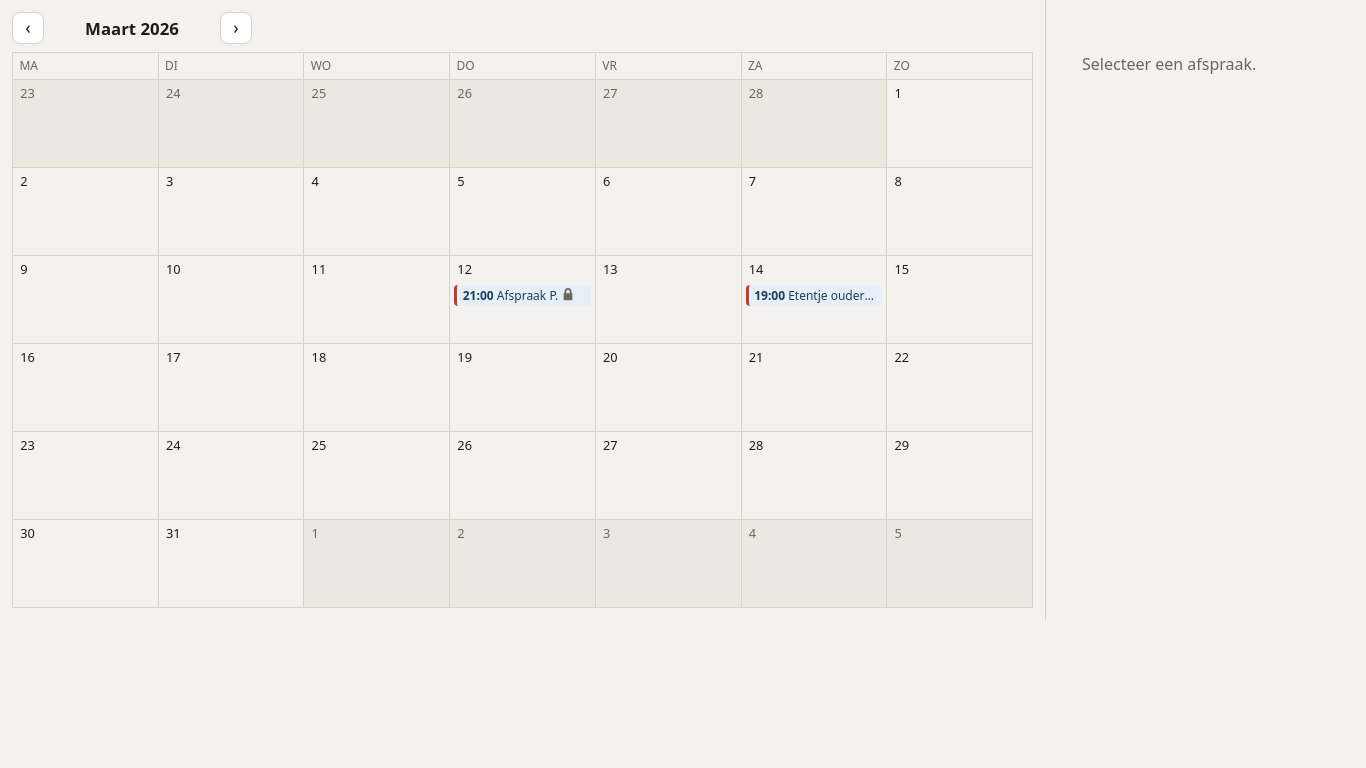
it: CalendarAppView › CalendarAppView_givenPreviousMonthClicked_expectEventsOfThatMonth
Click the button named "Vorige maand" at (28, 28), box [12,12,44,44]
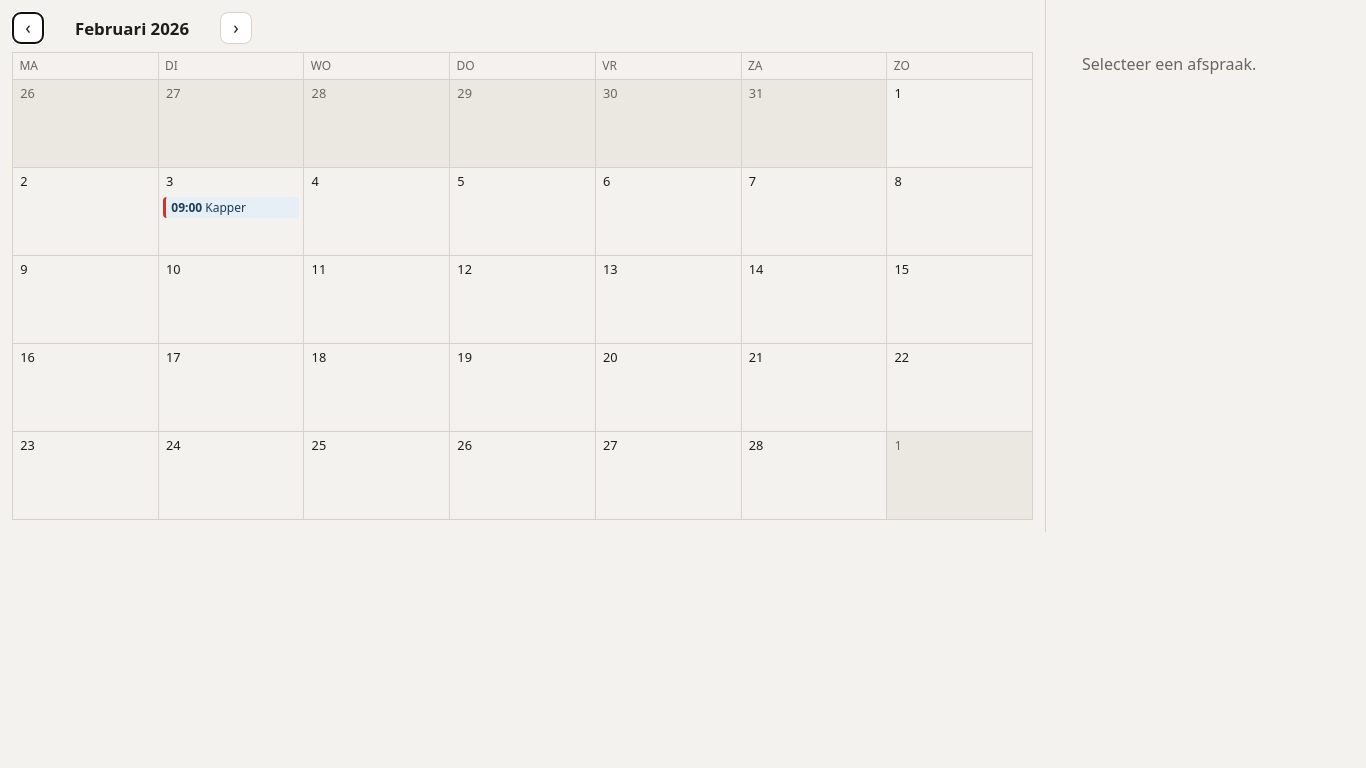
Now the heading "februari 2026" is shown, box [75,16,189,40]
Now the button "09:00 Kapper" is shown, box [163,197,299,218]
